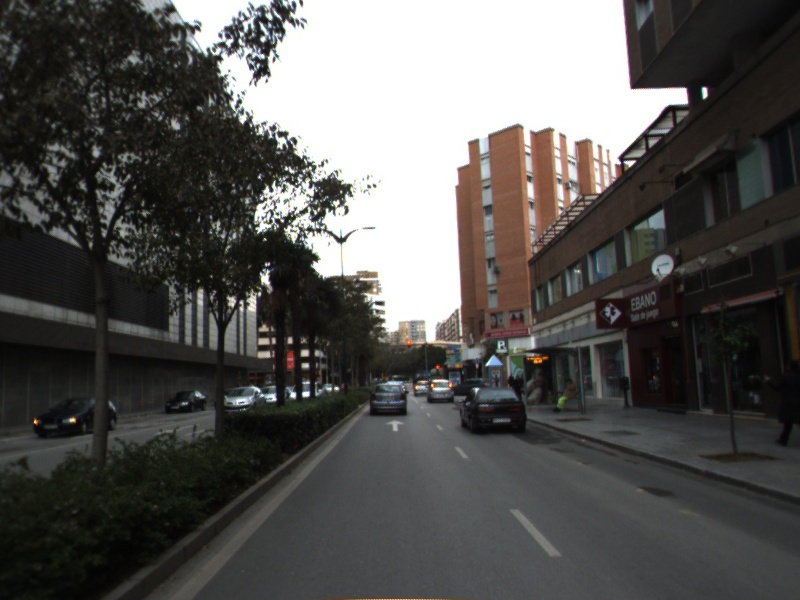STRAIGHT: (383, 418, 407, 433)
